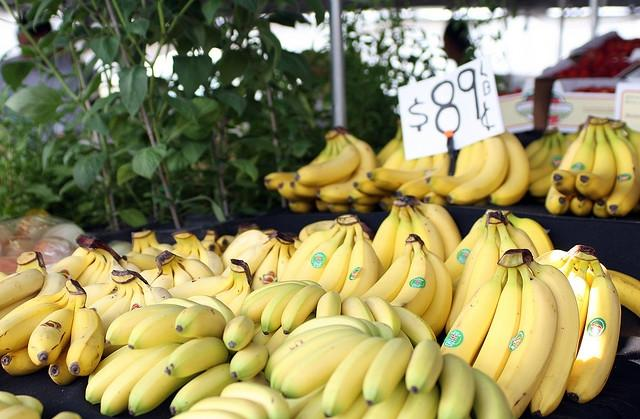banana: (497, 264, 558, 419), (524, 254, 580, 418), (566, 260, 621, 404), (440, 265, 507, 365), (100, 343, 184, 418), (86, 342, 182, 405), (264, 324, 364, 384), (280, 335, 373, 398), (472, 266, 522, 382), (321, 336, 388, 417), (315, 126, 379, 204), (445, 221, 488, 336), (1, 290, 70, 356), (446, 134, 509, 206), (128, 354, 201, 416), (296, 127, 360, 187), (169, 362, 239, 416), (28, 290, 76, 366), (279, 223, 341, 281), (460, 224, 500, 313), (424, 140, 486, 197), (390, 241, 436, 317), (105, 304, 188, 346), (418, 236, 452, 338), (362, 338, 413, 406), (486, 128, 530, 206), (264, 139, 331, 190), (574, 119, 616, 200), (550, 123, 596, 196), (604, 119, 638, 217), (339, 222, 379, 304), (358, 242, 412, 302), (66, 294, 105, 376), (413, 199, 462, 262), (292, 225, 346, 282), (444, 215, 488, 283), (528, 131, 572, 197), (372, 199, 406, 282), (128, 309, 196, 350), (164, 336, 229, 378), (282, 315, 373, 345), (220, 381, 292, 418), (318, 225, 356, 294), (396, 153, 450, 200), (437, 354, 475, 419), (240, 283, 300, 324), (354, 158, 418, 196), (260, 284, 306, 336), (1, 286, 67, 322), (220, 237, 278, 277), (471, 368, 515, 419), (406, 204, 444, 262), (282, 284, 326, 334), (404, 338, 442, 395), (506, 212, 554, 257), (361, 375, 408, 419), (219, 230, 269, 271), (100, 283, 134, 342), (528, 132, 562, 188), (88, 344, 132, 386), (1, 266, 45, 308), (393, 306, 437, 347), (501, 212, 539, 259), (126, 269, 173, 306), (188, 396, 267, 418), (175, 306, 226, 340), (367, 167, 433, 192), (284, 381, 328, 418), (570, 259, 590, 340), (607, 269, 640, 317), (167, 276, 234, 299), (230, 342, 270, 380), (364, 296, 401, 337), (252, 240, 282, 290), (397, 385, 441, 419), (389, 206, 413, 268), (48, 340, 79, 386), (2, 346, 48, 376), (187, 296, 236, 324), (82, 269, 117, 308), (48, 252, 96, 280), (377, 119, 402, 167), (329, 390, 370, 419), (222, 316, 255, 352), (226, 272, 252, 317), (534, 245, 580, 269), (212, 272, 244, 305), (173, 255, 214, 280), (621, 122, 640, 172), (298, 218, 338, 241), (342, 296, 376, 323), (545, 184, 574, 215), (496, 221, 519, 260), (83, 250, 106, 288), (76, 251, 100, 287), (528, 135, 552, 170), (35, 272, 67, 297), (169, 409, 248, 419), (316, 290, 342, 319), (524, 130, 548, 160), (170, 258, 193, 288), (150, 263, 174, 290), (453, 145, 473, 177), (380, 146, 406, 170), (15, 395, 43, 417), (0, 404, 40, 419), (570, 194, 594, 218), (276, 242, 290, 282), (129, 280, 146, 312), (348, 189, 382, 205), (358, 318, 383, 338), (138, 266, 162, 286), (290, 180, 318, 197), (96, 249, 110, 283), (371, 322, 396, 341), (592, 192, 610, 218), (0, 392, 23, 410), (320, 142, 338, 164), (288, 199, 314, 213), (200, 241, 222, 256), (217, 235, 236, 252), (125, 239, 141, 257), (380, 196, 399, 211), (52, 411, 82, 419), (200, 230, 218, 243), (142, 246, 162, 256), (328, 204, 350, 213), (71, 247, 90, 257), (315, 200, 330, 212)
